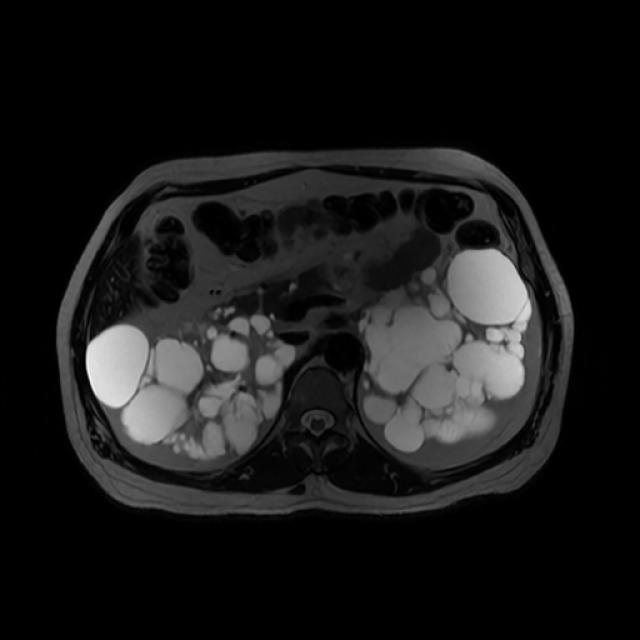sag: (83, 314, 298, 462)
sol: (358, 248, 533, 453)
